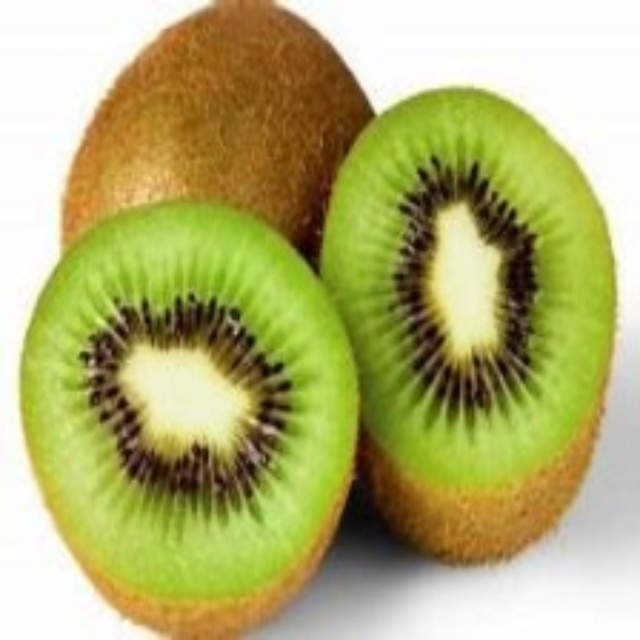kiwi: (318, 86, 620, 573), (19, 225, 350, 629), (75, 3, 376, 252)
